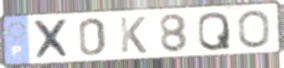0: (77, 16, 108, 59)
8: (157, 12, 189, 55)
K: (118, 16, 149, 55)
O: (236, 9, 273, 50)
Q: (197, 10, 233, 53)
X: (30, 18, 73, 61)
